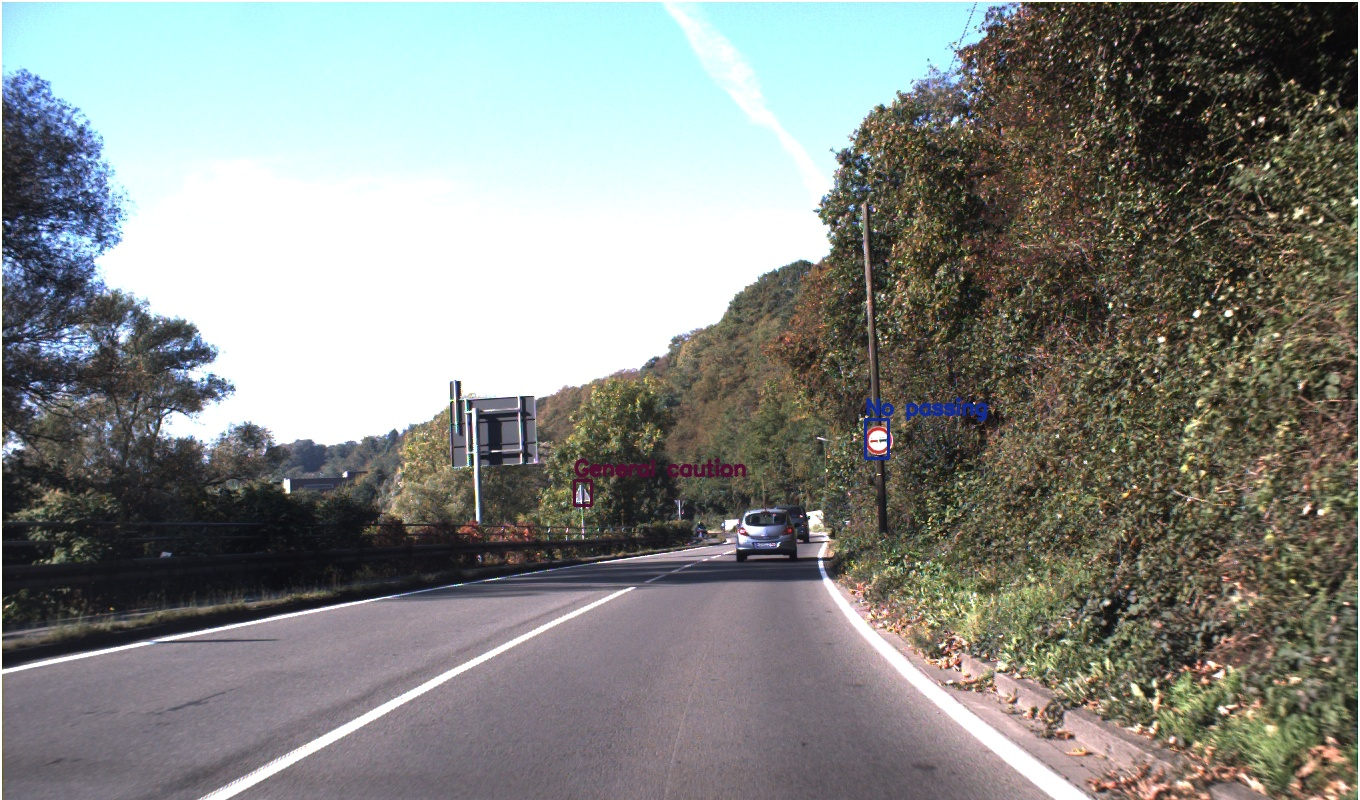Slippery road: (825, 428, 862, 463)
